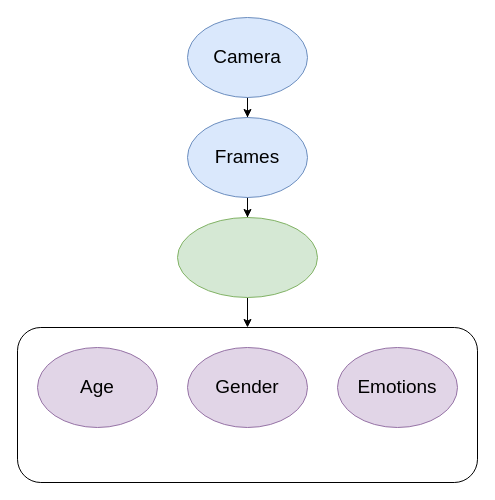
The diagram is 495 pixels wide and 500 high, and some of its shapes have lost their labels. Each missing label, with the box of its shape:
Events: (16, 326, 478, 482)
VideoWorker: (176, 216, 318, 298)
